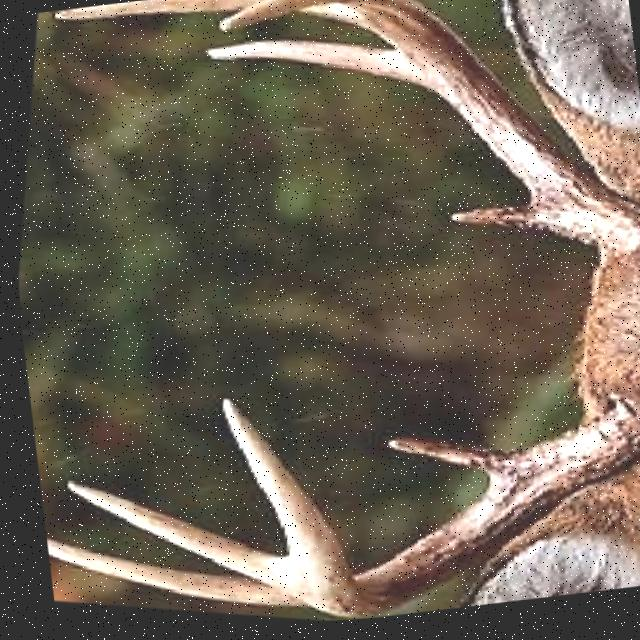L-F: (218, 0, 640, 265)
L-G1: (444, 211, 545, 236)
L-G2: (201, 42, 417, 89)
R-F: (216, 399, 640, 621)
R-G1: (379, 442, 515, 483)
R-G3: (56, 480, 296, 605)
